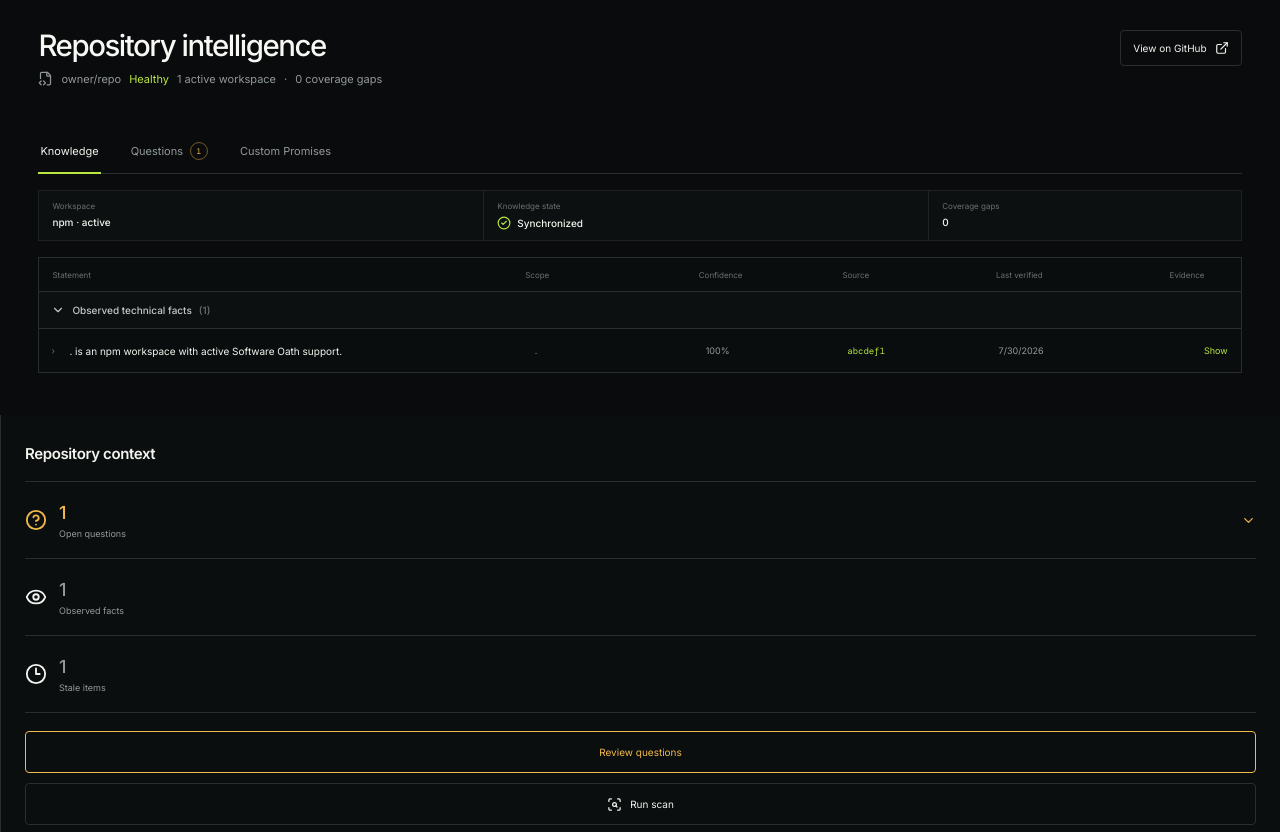
repository intelligence workspace › loads private repository knowledge with provenance and question counts
Click the text ". is an npm workspace with active Software Oath support." at (206, 351), box [69,345,342,357]
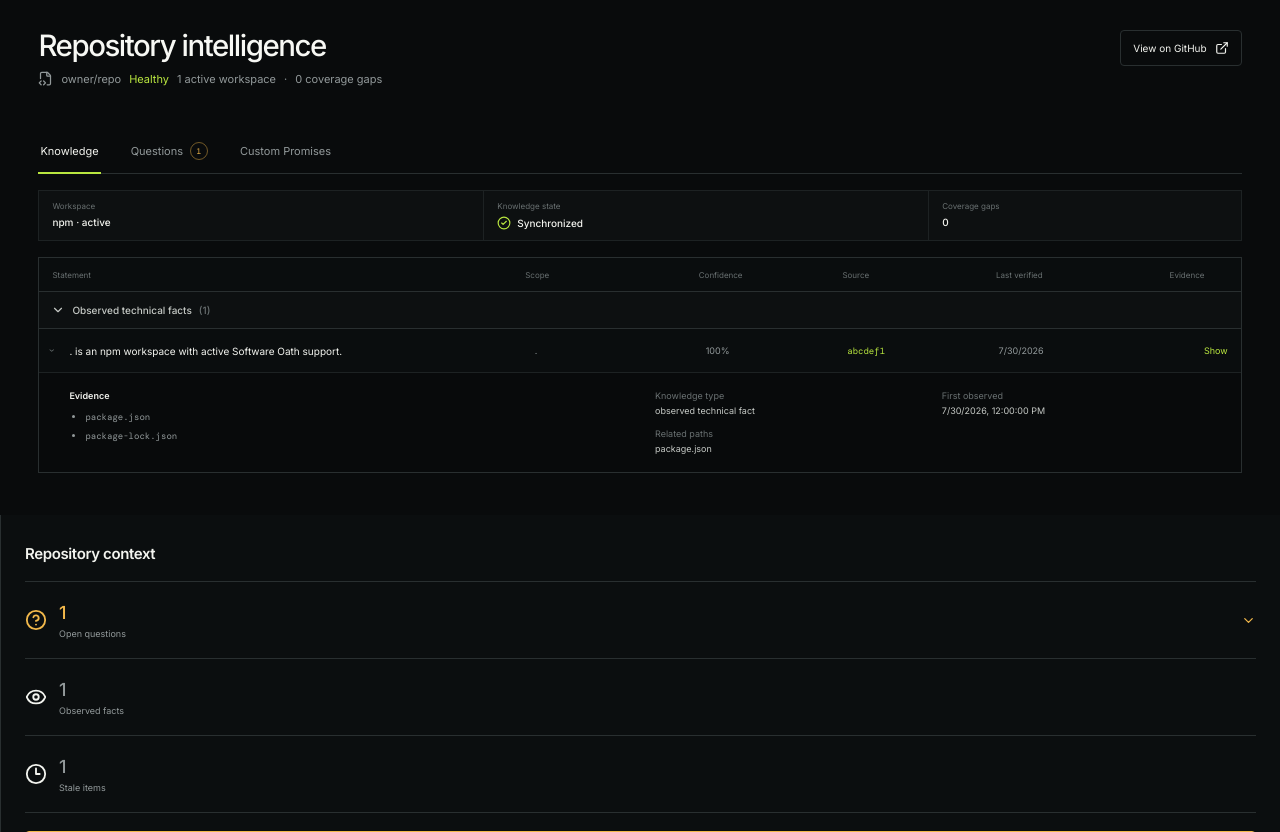
Expected: the text "abcdef1" is shown, [847,345,885,357]
Expected: the list item "package-lock.json" is shown, [85,430,177,442]
Click the tab "Knowledge" at (70, 151), box [38,128,101,173]
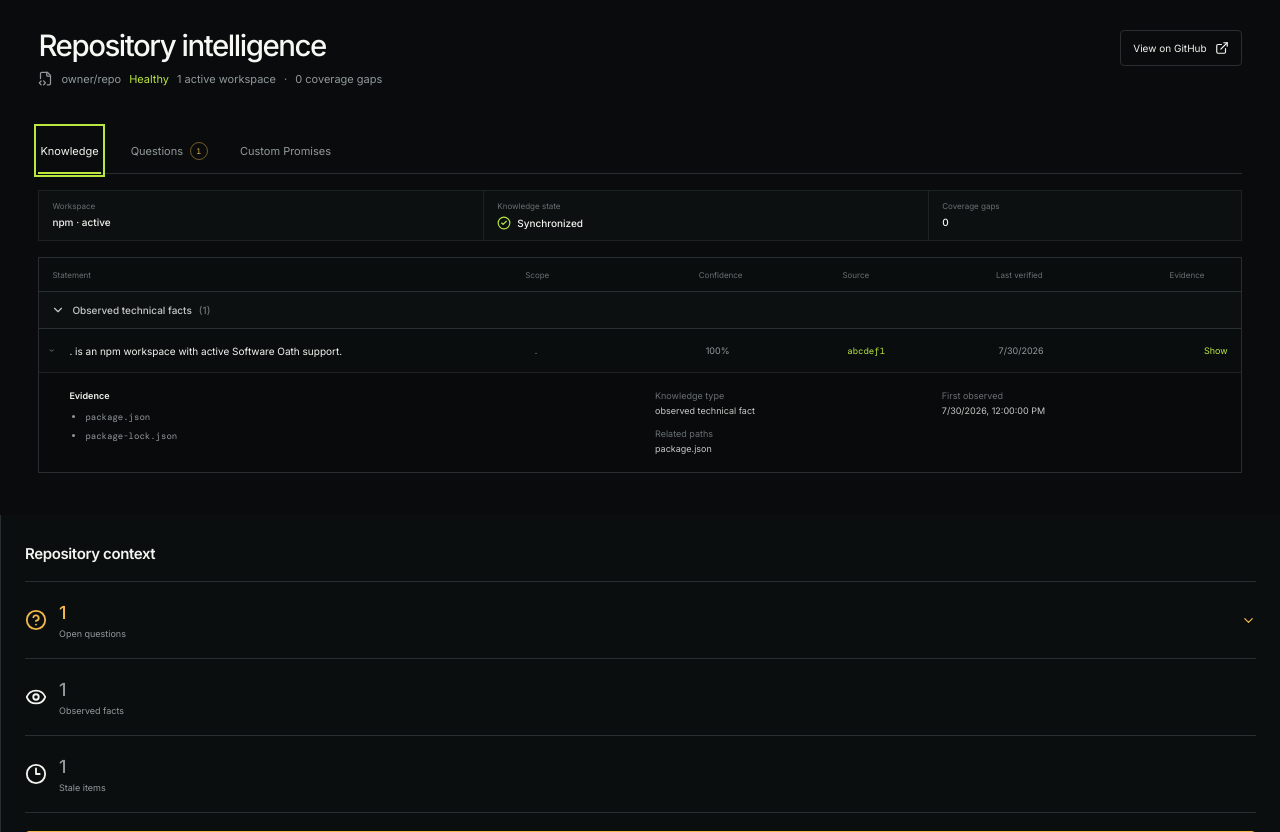
Press Arrowright
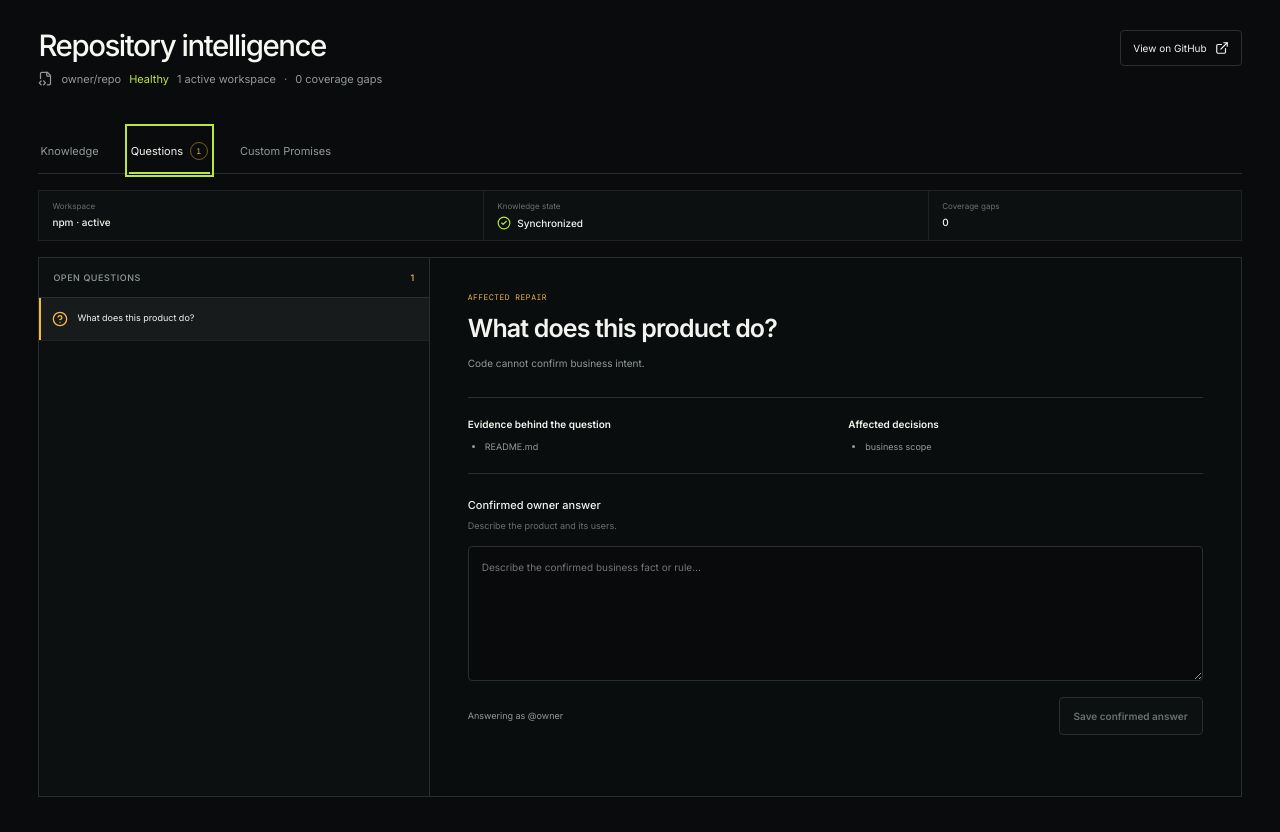
Expected: the heading "What does this product do?" is shown, [468,313,777,343]
